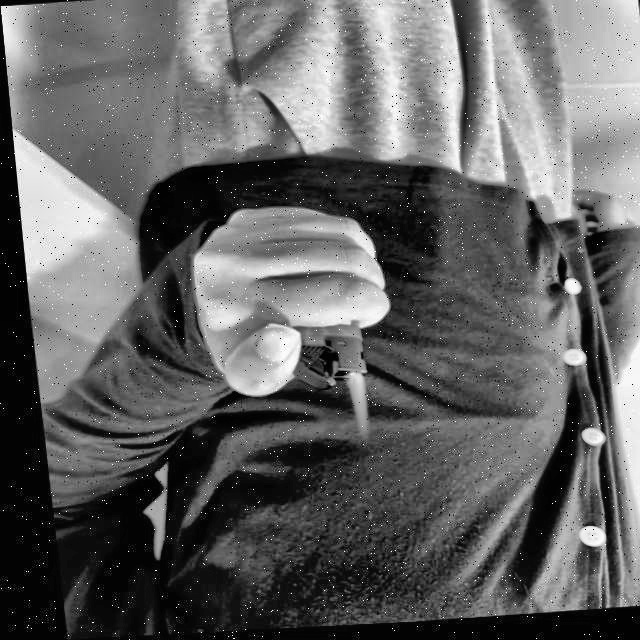Fire: (334, 375, 362, 438)
